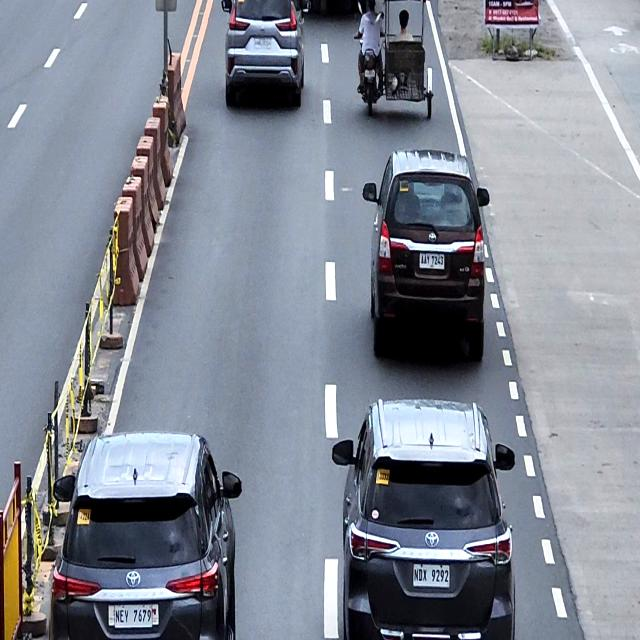Car: (332, 398, 516, 640), (50, 431, 242, 639), (362, 148, 490, 362), (220, 0, 305, 107)
License-Plate: (412, 562, 450, 590), (113, 604, 153, 630), (419, 252, 445, 270), (254, 36, 272, 50), (364, 68, 376, 78)
Tricycle: (354, 0, 434, 119)
